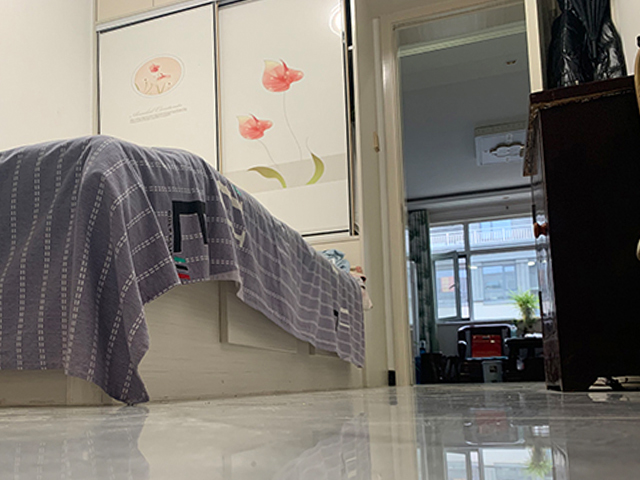bed: (1, 134, 374, 408)
cabinet: (522, 75, 638, 392)
stool: (455, 323, 516, 384)
trashcan: (481, 360, 504, 384)
